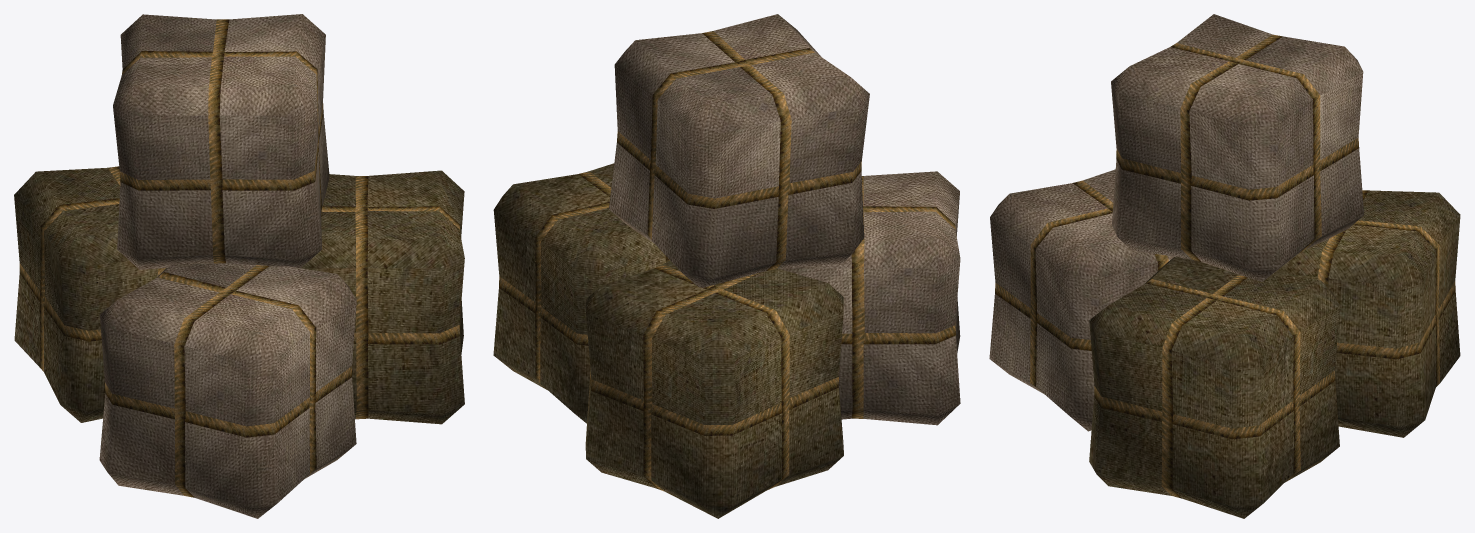
File: KM_VOB_PACKAGE_04.glb
The picture shows the model from 3 angles, left to right: view 1: azimuth 30°, elevation 25°; view 2: azimuth 150°, elevation 25°; view 3: azimuth 270°, elevation 25°; orthographic projection. The views are drawn at different scales.
Visible parts, largest first — view 1: Mesh; view 2: Mesh; view 3: Mesh.
Boxes of the visible parts, x1,y1,x2,y2 form: Mesh: (14, 14, 464, 518); Mesh: (493, 14, 960, 518); Mesh: (989, 14, 1460, 518).
Bounding box in the file's own units: 1.33 × 1.15 × 1.37.
3 materials, 3 textured.
